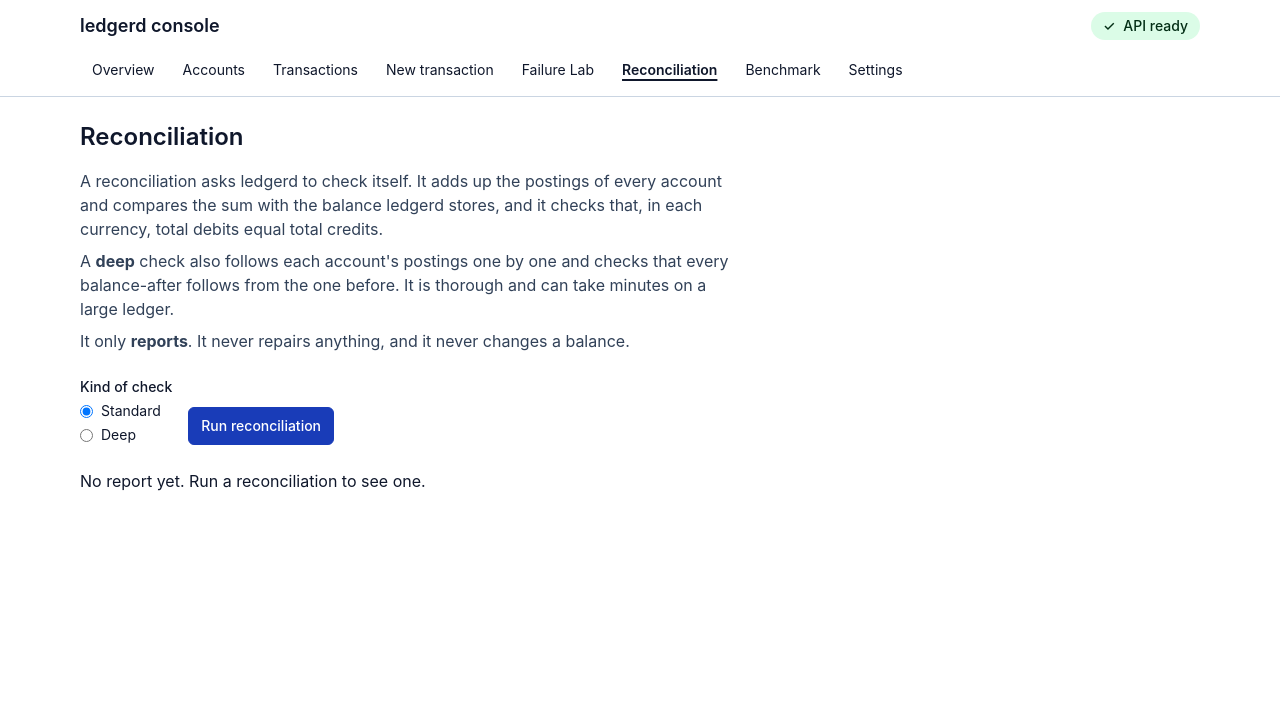
running (R10.1) › says a standard run did not check the chains, and how to
Check: the heading "Reconciliation" is shown, box [80,121,244,153]
Click the button "Run reconciliation": (261,426) [188,407,334,445]
(page scrolled)
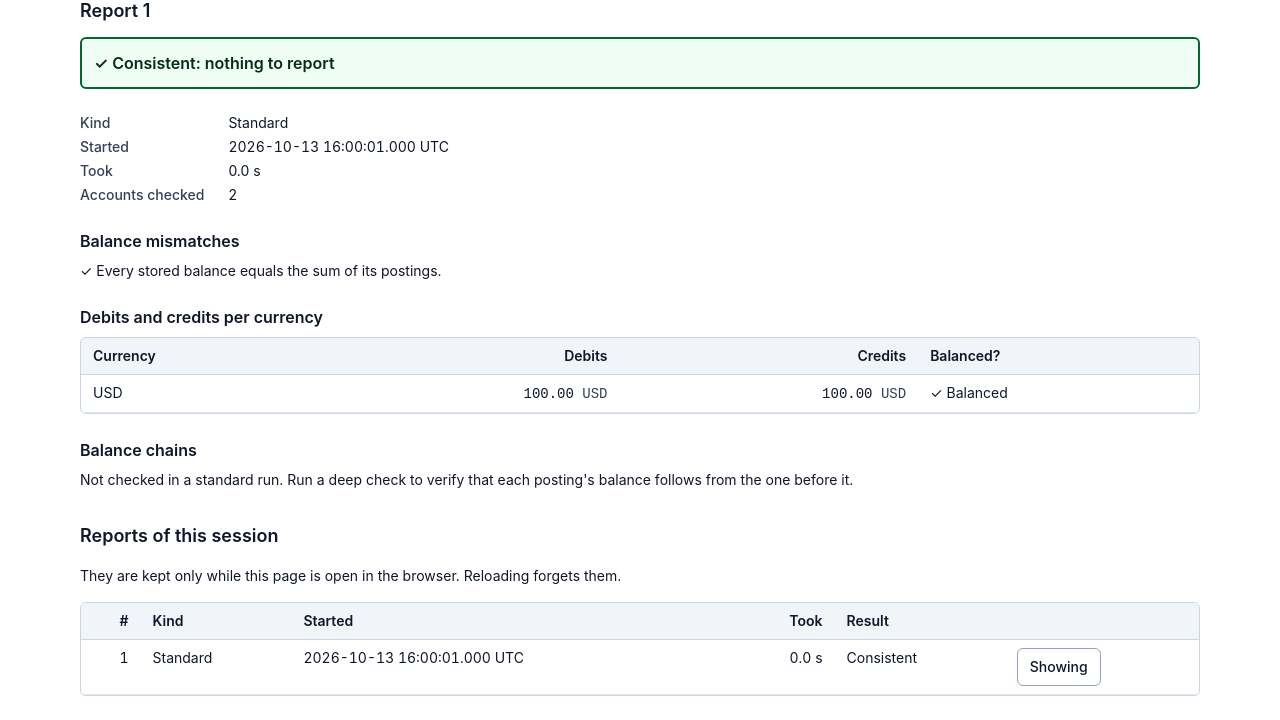
Check: the text "Not checked in a standard run" is shown, box [80,471,853,488]
